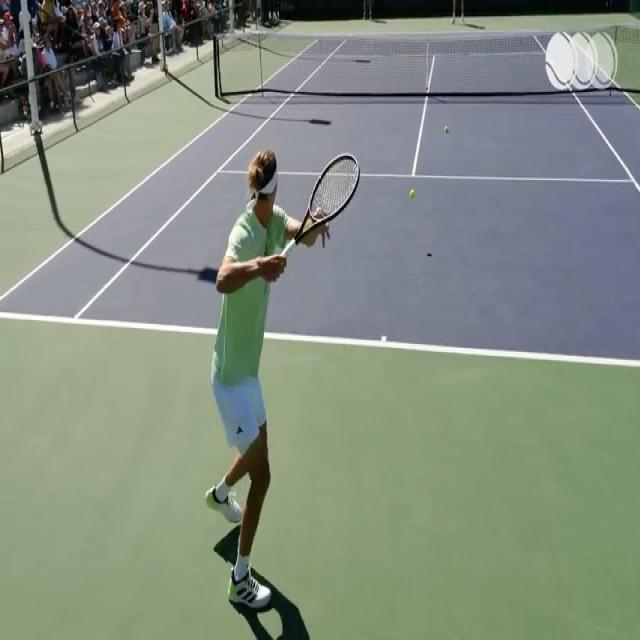forehand-ready: (209, 121, 360, 616)
